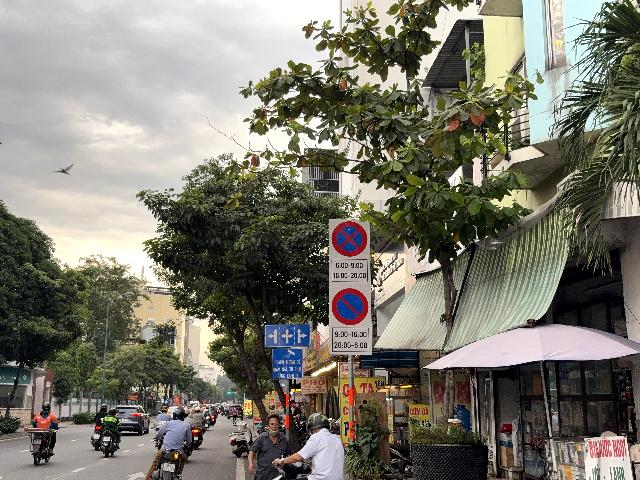cam-do-xe: (332, 288, 368, 325)
cam-dung-va-do-xe: (332, 221, 368, 257)
